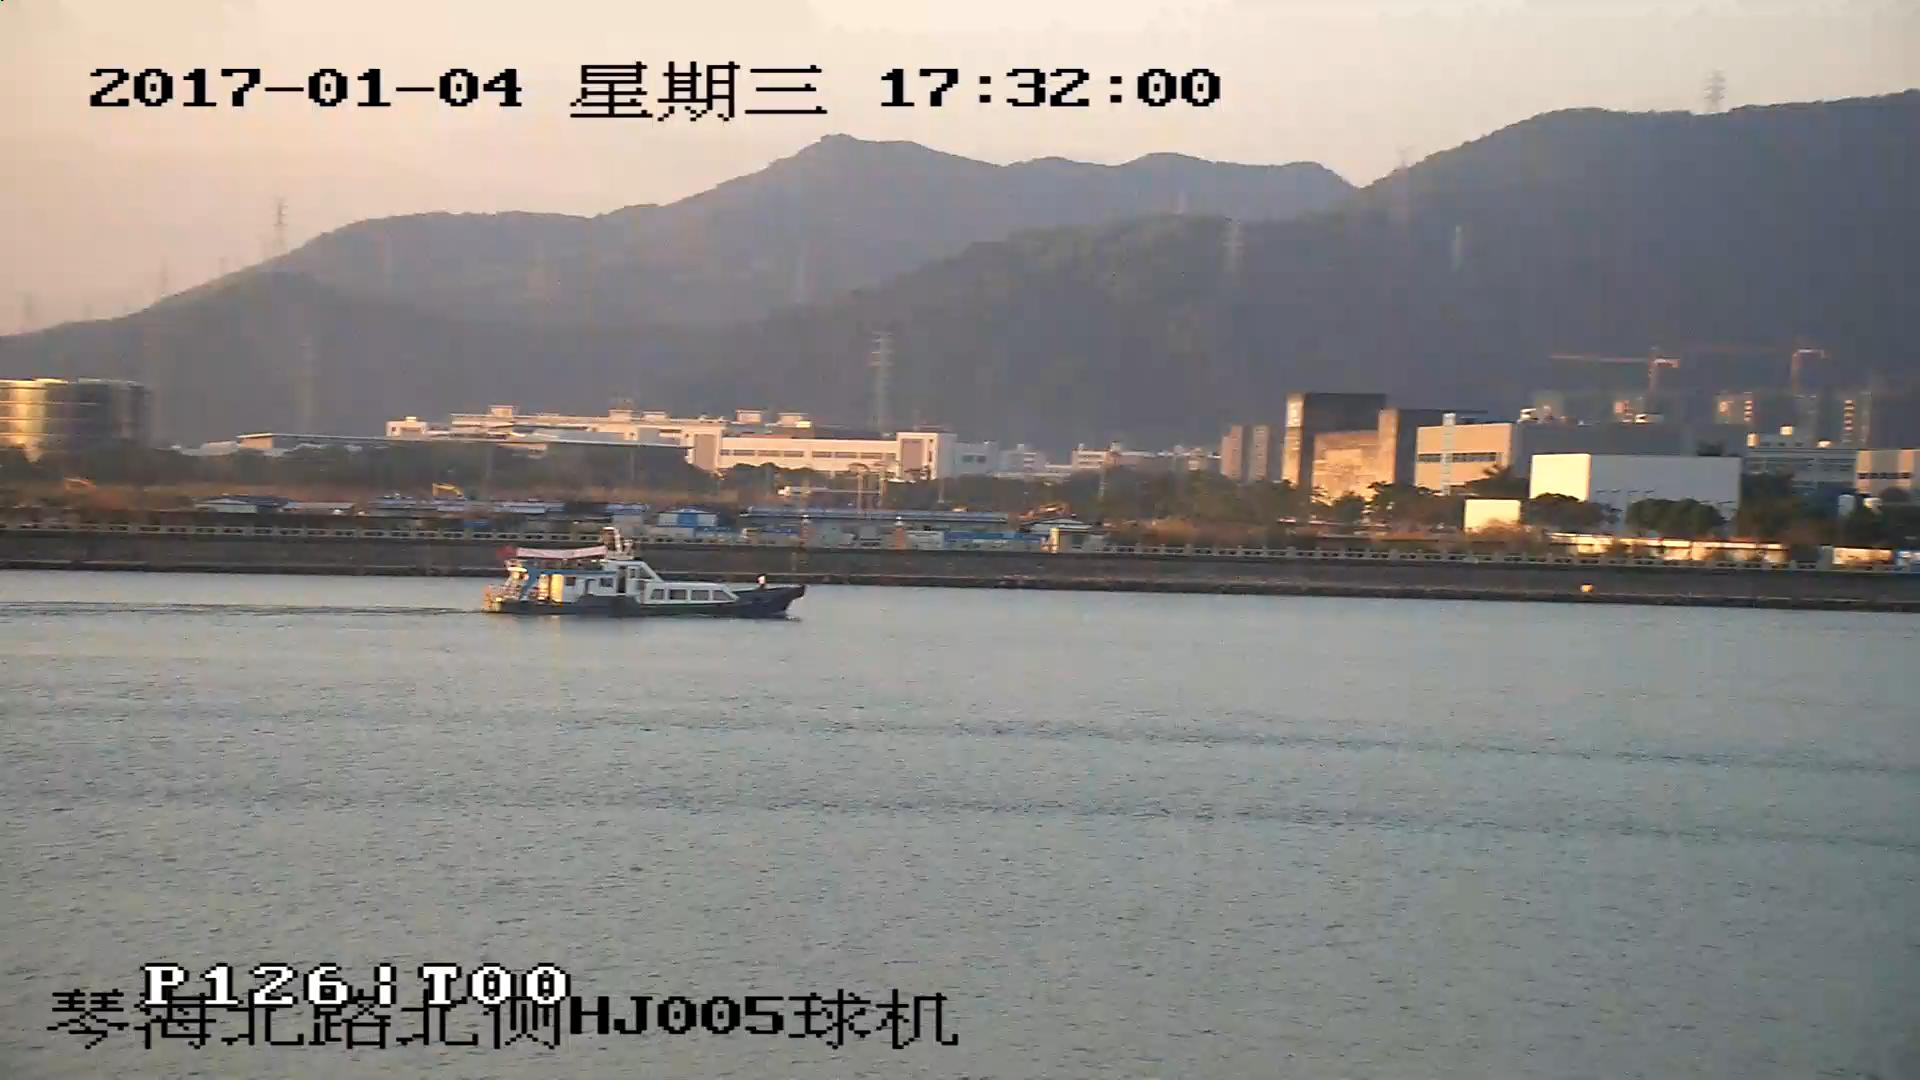fishing boat: (486, 542, 805, 623)
